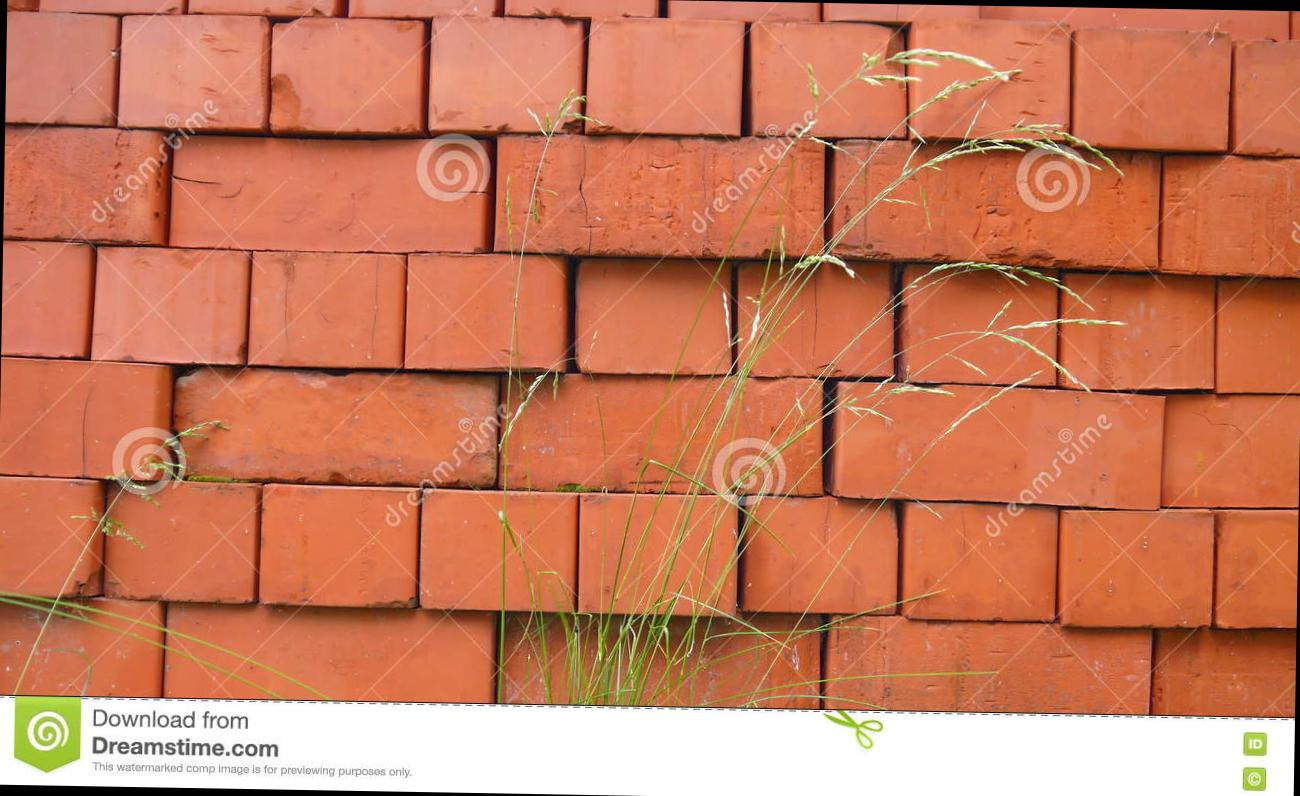brick: (832, 382, 1166, 511), (831, 140, 1159, 270), (493, 134, 824, 259), (500, 372, 824, 496), (170, 136, 489, 255), (175, 368, 496, 486), (165, 603, 494, 703), (825, 616, 1152, 716), (0, 357, 170, 479), (910, 19, 1072, 142), (1071, 27, 1230, 152), (258, 485, 416, 608), (4, 126, 167, 244), (420, 489, 576, 612), (578, 494, 737, 614), (406, 253, 568, 370), (900, 264, 1056, 385), (586, 15, 742, 136), (736, 262, 894, 379), (902, 502, 1056, 622), (743, 495, 898, 614), (749, 22, 908, 138), (1059, 272, 1215, 390), (90, 248, 248, 364), (428, 13, 582, 132), (249, 252, 406, 368), (105, 482, 256, 602), (576, 260, 732, 376), (1064, 508, 1214, 628), (267, 18, 423, 131), (118, 14, 270, 129), (1161, 156, 1300, 278), (0, 599, 162, 697), (1163, 392, 1300, 507), (5, 11, 117, 125), (1153, 628, 1296, 716), (0, 476, 102, 597), (2, 242, 90, 356), (1216, 509, 1298, 630), (1216, 277, 1300, 393), (1232, 39, 1300, 156)
